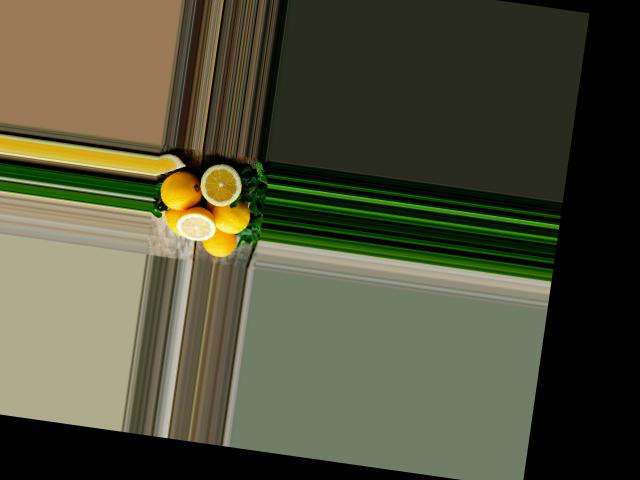lemon: (160, 205, 187, 235)
